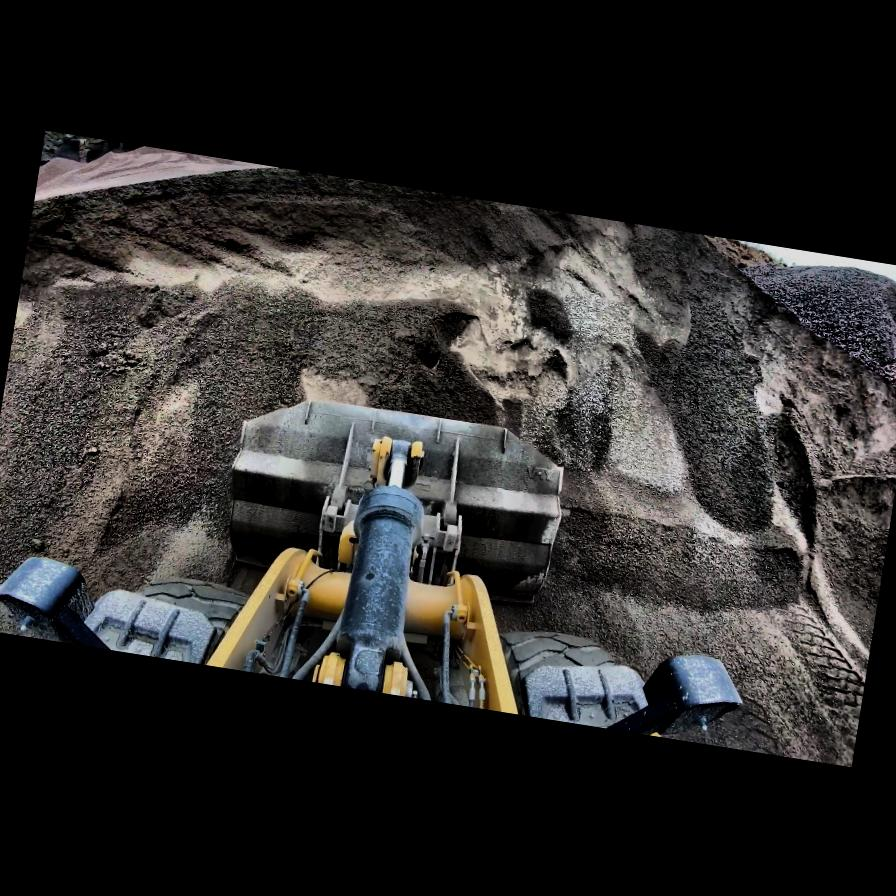anchor: (366, 432, 426, 492)
pile of gravel: (0, 129, 896, 642), (726, 247, 896, 376)
